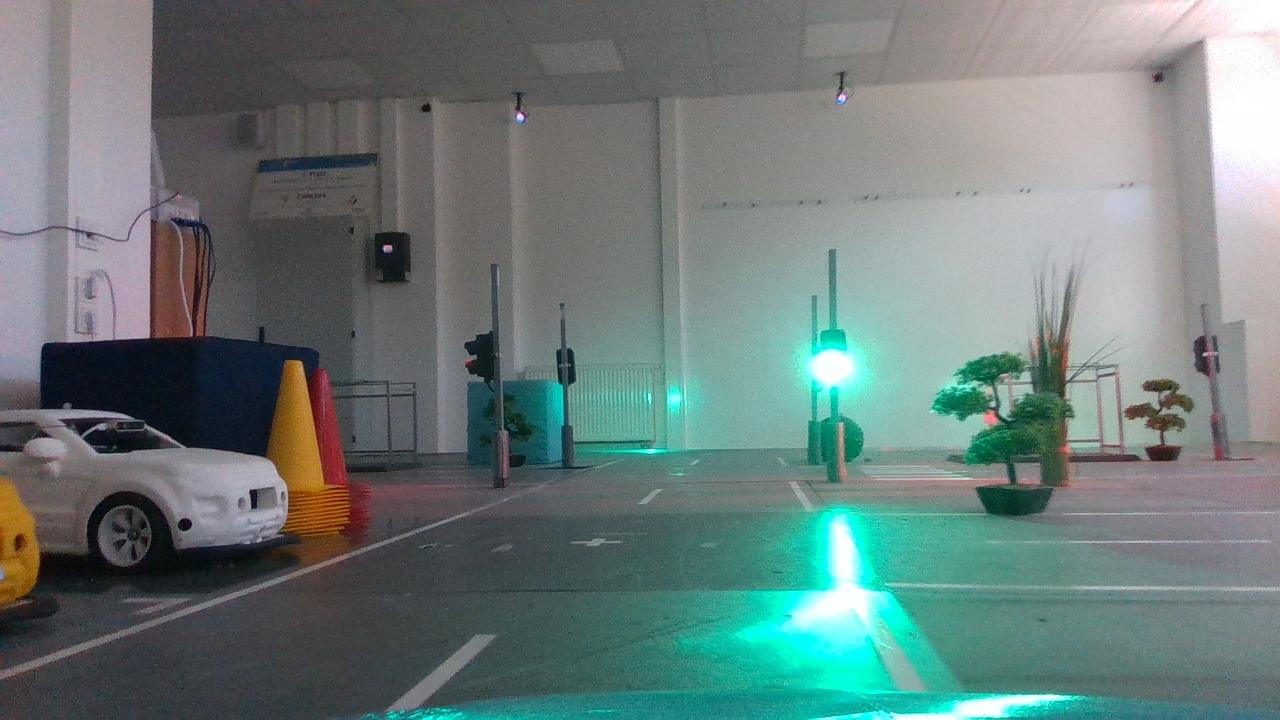traffic_light_green: (804, 321, 854, 402)
